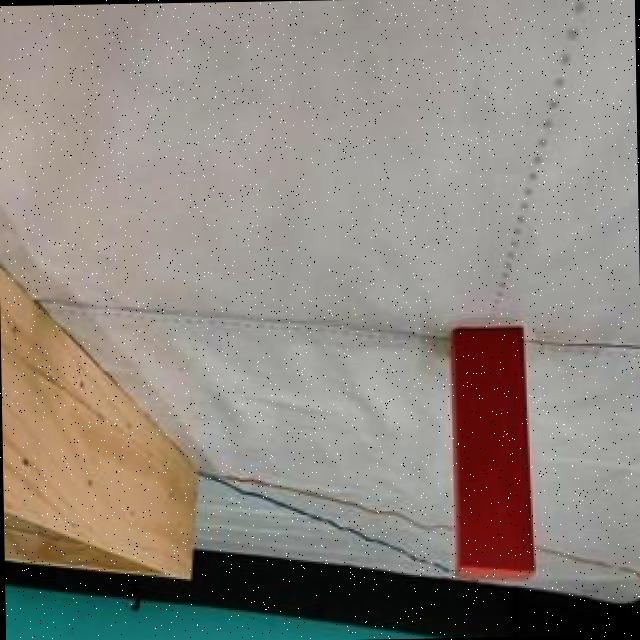redbox: (450, 325, 543, 586)
